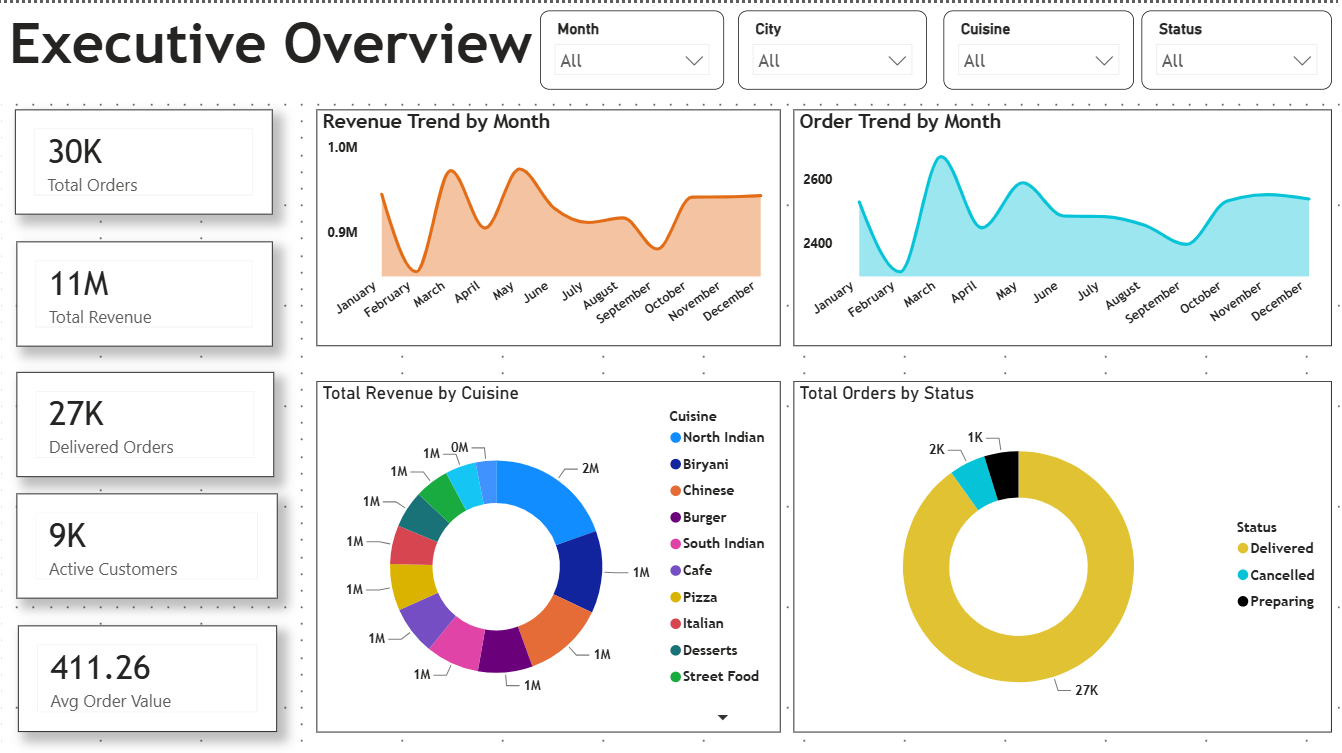

This screenshot's page, from the dashboard's own definition file:
{"tool":"powerbi","page":{"name":"Executive Overview","canvas":[1280,720],"ordinal":0},"visuals":[{"type":"cardVisual","fields":{"Data":["Shared Measures.Total Orders"]},"box":[14.1,101.6,245.3,100],"z":0},{"type":"cardVisual","fields":{"Data":["Shared Measures.Total Revenue"]},"box":[15.6,226.6,243.8,100],"z":1000},{"type":"cardVisual","fields":{"Data":["Shared Measures.Delivered Orders"]},"box":[15.6,351.6,245.3,100],"z":2000},{"type":"cardVisual","fields":{"Data":["Shared Measures.Active Customers"]},"box":[15.6,467.2,248.4,100],"z":3000},{"type":"cardVisual","fields":{"Data":["Shared Measures.Avg Order Value"]},"box":[17.2,592.2,246.9,101.6],"z":4000},{"type":"lineChart","title":" Revenue Trend by Month","fields":{"Y":["Shared Measures.Total Revenue"],"Category":["orders.order_time.Variation.Date Hierarchy.Month"]},"box":[301.6,101.6,442.2,225],"z":5000},{"type":"lineChart","title":"Order Trend by Month","fields":{"Category":["orders.order_time.Variation.Date Hierarchy.Month"],"Y":["Shared Measures.Total Orders"]},"box":[756.2,101.6,512.5,225],"z":6000},{"type":"donutChart","fields":{"Category":["restaurants.cuisine"],"Y":["Shared Measures.Total Revenue"]},"box":[301.6,359.4,442.2,334.4],"z":7000},{"type":"donutChart","fields":{"Category":["orders.status"],"Y":["Shared Measures.Total Orders"]},"box":[756.2,359.4,512.5,334.4],"z":8000},{"type":"textbox","box":[0,1.6,515.6,89.1],"z":9000},{"type":"slicer","fields":{"Values":["orders.order_time.Variation.Date Hierarchy.Month"]},"box":[514.1,7.8,175,75],"z":10000},{"type":"slicer","fields":{"Values":["customers.city"]},"box":[703.1,7.8,179.7,75],"z":11000},{"type":"slicer","fields":{"Values":["restaurants.cuisine"]},"box":[898.4,7.8,181.2,75],"z":12000},{"type":"slicer","fields":{"Values":["orders.status"]},"box":[1087.5,7.8,181.2,75],"z":13000}]}

Visuals, with their boxes in screenshot pixels (x1, y1, x2, y2), scaled from the page's 1280x720 canvas onto the 1342x753 screenshot:
cardVisual - Shared Measures.Total Orders: [left=15, top=106, right=272, bottom=211]
cardVisual - Shared Measures.Total Revenue: [left=16, top=237, right=272, bottom=342]
cardVisual - Shared Measures.Delivered Orders: [left=16, top=368, right=274, bottom=472]
cardVisual - Shared Measures.Active Customers: [left=16, top=489, right=277, bottom=593]
cardVisual - Shared Measures.Avg Order Value: [left=18, top=619, right=277, bottom=726]
" Revenue Trend by Month" lineChart: [left=316, top=106, right=780, bottom=342]
"Order Trend by Month" lineChart: [left=793, top=106, right=1330, bottom=342]
donutChart - restaurants.cuisine x Shared Measures.Total Revenue: [left=316, top=376, right=780, bottom=726]
donutChart - orders.status x Shared Measures.Total Orders: [left=793, top=376, right=1330, bottom=726]
textbox: [left=0, top=2, right=541, bottom=95]
slicer - orders.order_time.Variation.Date Hierarchy.Month: [left=539, top=8, right=722, bottom=87]
slicer - customers.city: [left=737, top=8, right=926, bottom=87]
slicer - restaurants.cuisine: [left=942, top=8, right=1132, bottom=87]
slicer - orders.status: [left=1140, top=8, right=1330, bottom=87]
